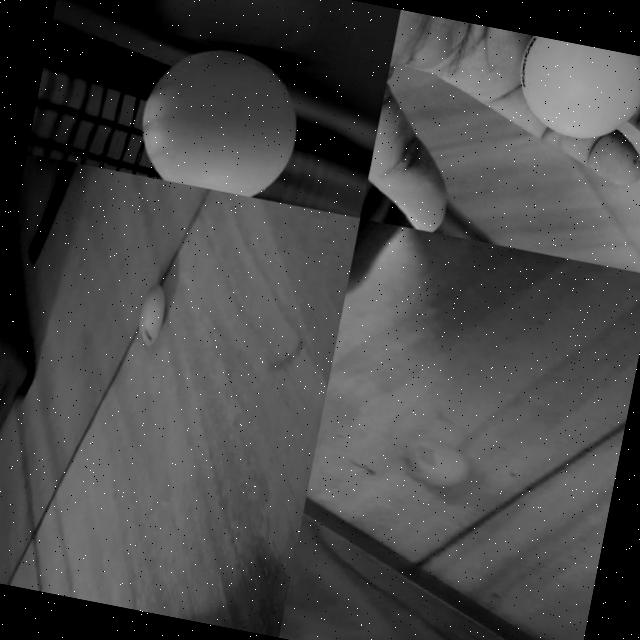ping-pong-ball: (133, 35, 312, 204), (509, 34, 640, 148), (393, 438, 474, 494), (134, 282, 170, 352)
